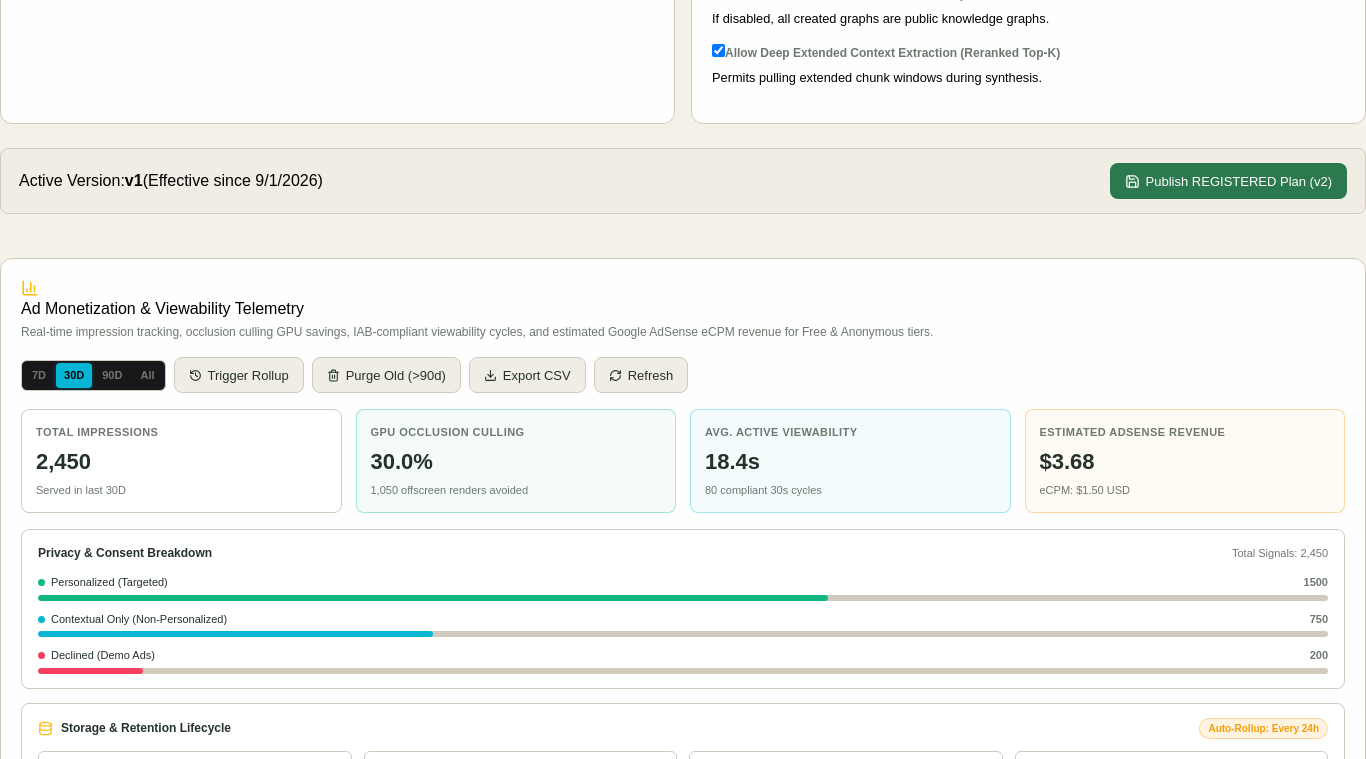
Test: AdminPlansTab › purges old ad telemetry and shows feedback banner
(page scrolled)
What coordinates should you click on to do the following:
click the button with test id "ad-purge-telemetry-btn"
I would click on:
 (386, 375)
Its box is top-left (312, 357), bottom-right (461, 393).
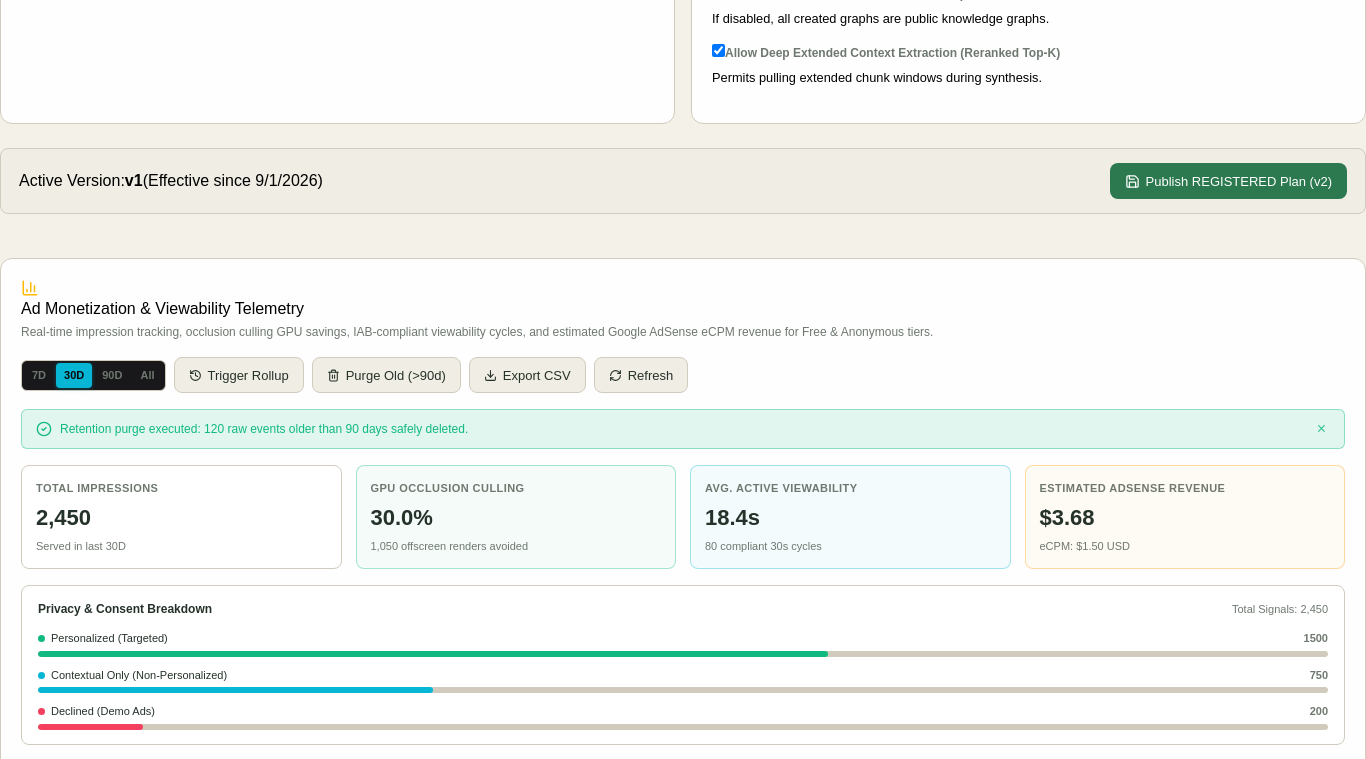
expect the element with test id "telemetry-action-banner" is shown: met, box top-left (21, 409), bottom-right (1345, 449)
expect the text "Retention purge executed: 120 raw events older than 90 days safely deleted" is shown: met, box top-left (60, 422), bottom-right (468, 436)
